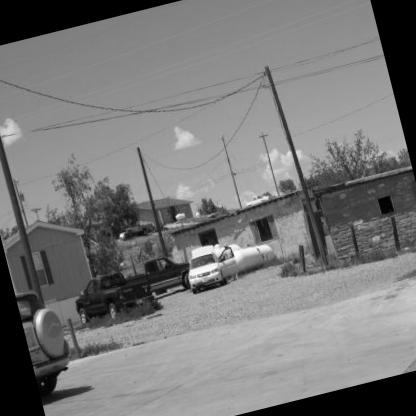car: (184, 242, 251, 296)
truck: (52, 259, 152, 339), (140, 250, 189, 300)
